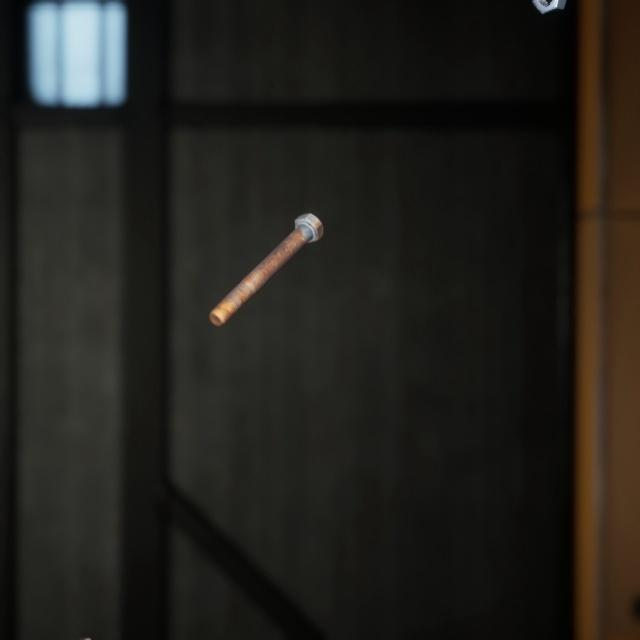bolt: (204, 192, 327, 312), (66, 609, 124, 640)
